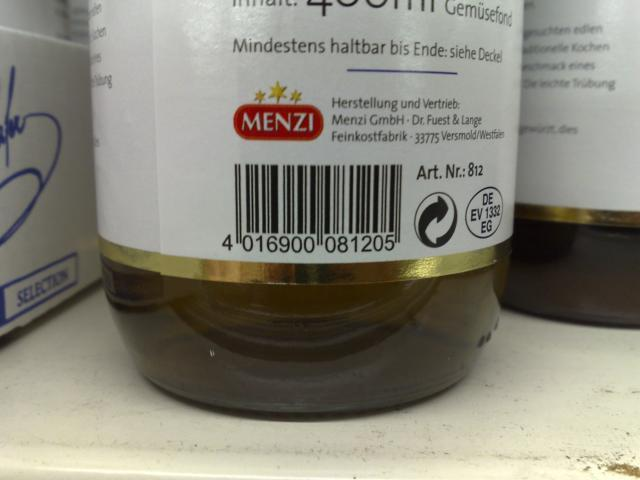Barcode: (210, 150, 411, 260)
